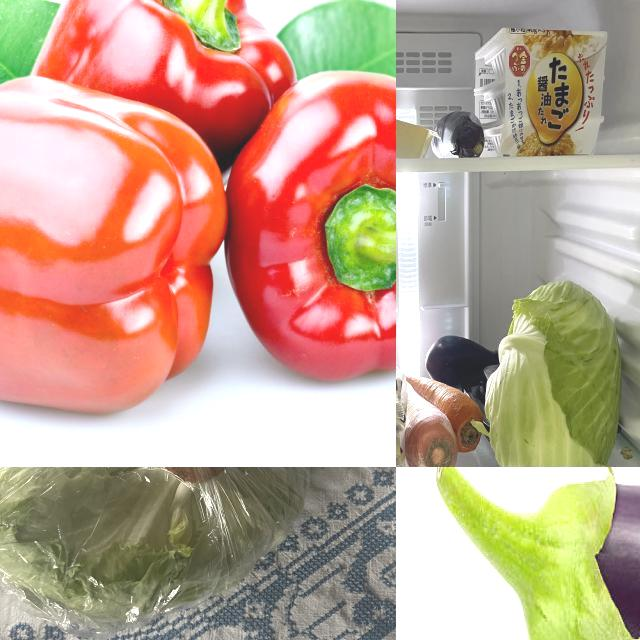bell_pepper: (1, 62, 212, 412), (222, 56, 397, 389), (28, 1, 307, 148)
cabbage: (1, 468, 322, 635), (486, 282, 631, 468)
carrot: (407, 376, 487, 450), (402, 379, 458, 468)
eggplant: (425, 468, 640, 640), (430, 338, 502, 392), (434, 114, 486, 160)
